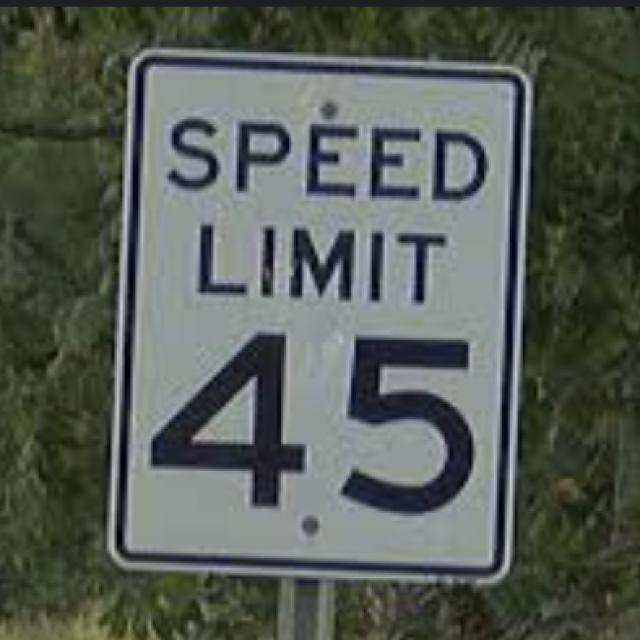speedLimit45: (137, 76, 500, 558)
